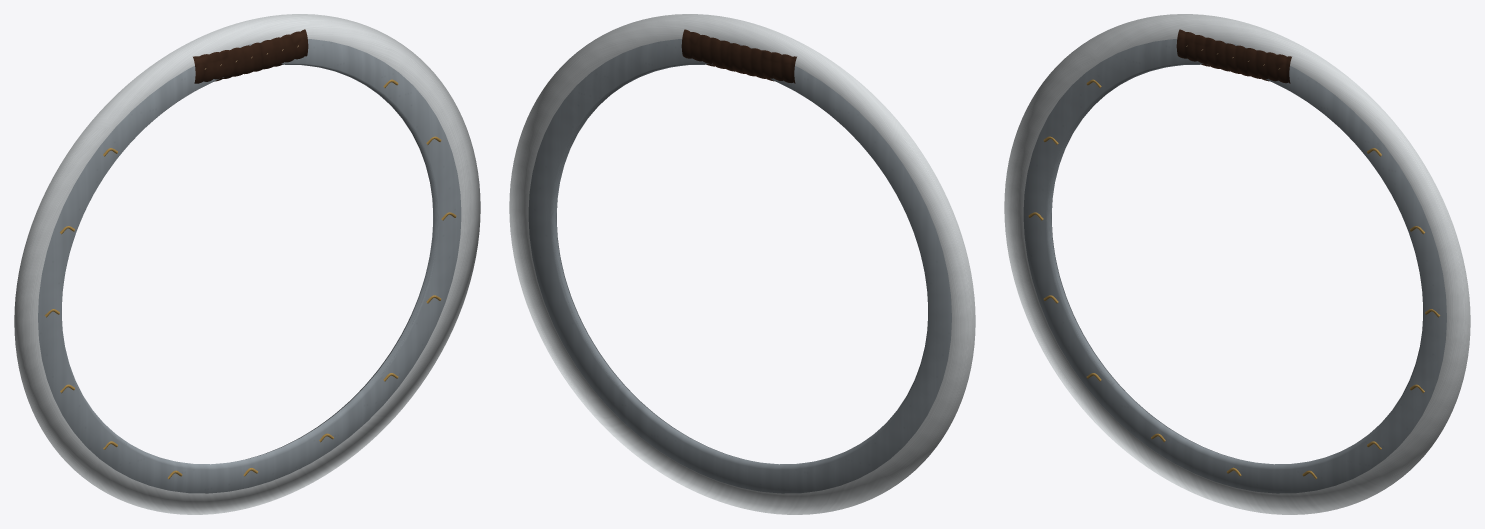
The model's file is chakram.glb.
3 renders of one model, left to right at view 1: azimuth 30°, elevation 25°; view 2: azimuth 150°, elevation 25°; view 3: azimuth 330°, elevation 25°, orthographic.
Visible parts, largest first — view 1: edge / honed bright bevel, steel / forged blade steel, leather / oiled leather wrap, brass / polished brass furniture; view 2: steel / forged blade steel, edge / honed bright bevel, leather / oiled leather wrap; view 3: edge / honed bright bevel, steel / forged blade steel, leather / oiled leather wrap, brass / polished brass furniture.
Boxes of the visible parts, <box> form: edge / honed bright bevel: <box>14,14,480,514</box>; steel / forged blade steel: <box>38,39,461,493</box>; leather / oiled leather wrap: <box>193,29,308,83</box>; brass / polished brass furniture: <box>44,79,456,478</box>; steel / forged blade steel: <box>528,39,951,493</box>; edge / honed bright bevel: <box>509,14,975,514</box>; leather / oiled leather wrap: <box>681,29,796,83</box>; edge / honed bright bevel: <box>1004,14,1470,514</box>; steel / forged blade steel: <box>1023,39,1446,493</box>; leather / oiled leather wrap: <box>1176,29,1291,83</box>; brass / polished brass furniture: <box>1028,79,1440,478</box>.
Size of the model in its own units: 0.414 by 0.414 by 0.0141.
Materials: 6 (4 with a texture image).
